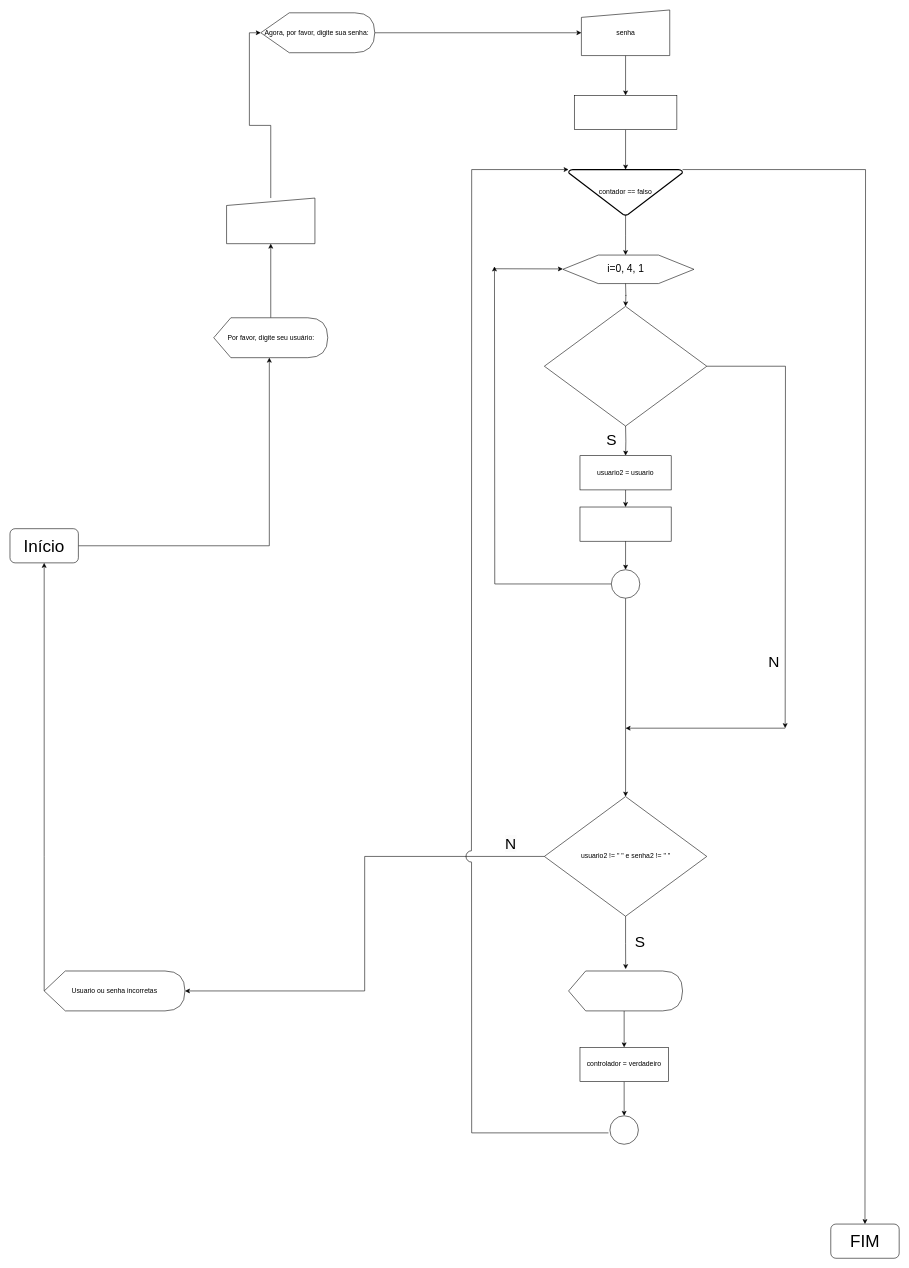
This 909x1268 diagram has some shape labels left out. The centre of each missing label's shape, as x and y in pixels:
"contador <- falso" belongs at point 625,112.
"Seja bem vindo, usuario2" belongs at point 625,990.
"senha2 = senha" belongs at point 625,523.
"usuario" belongs at point 270,221.
"usuario == matrizLogins[i][0] e senha == matrizLogins[i][1]" belongs at point 625,366.
